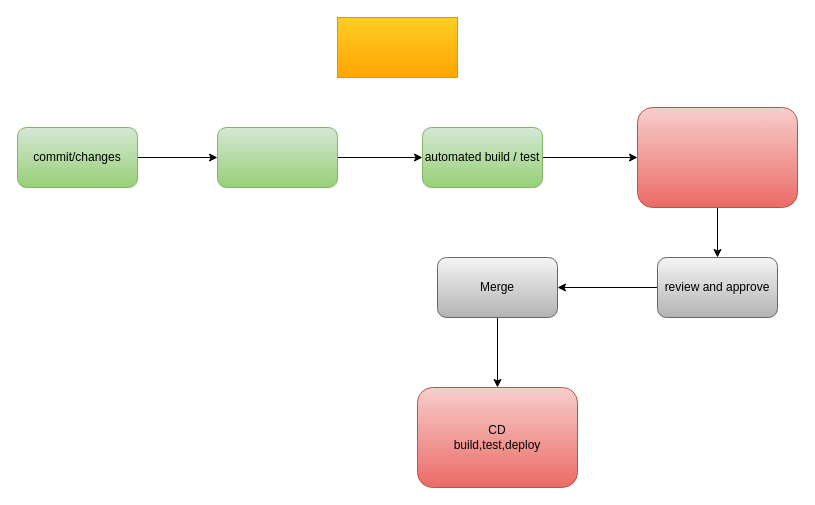
The diagram is 815 pixels wide and 505 high, and some of its shapes have lost their labels. The shapes that lost their labels are listed below. From the top down, each one's box as (x1, y1, x2, y2) in pixels, then its label:
(336, 16, 458, 78): usecase 2
(216, 126, 338, 188): push to github
(636, 106, 798, 208): CI automated build / test -> push code fix
